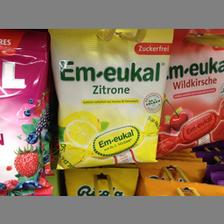Suessigkeit: (50, 29, 158, 167), (162, 26, 222, 154)
